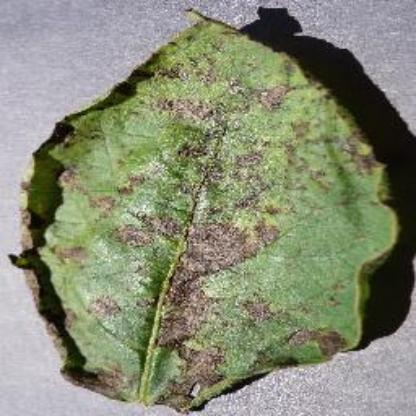Early-Blight: (11, 9, 404, 410)
